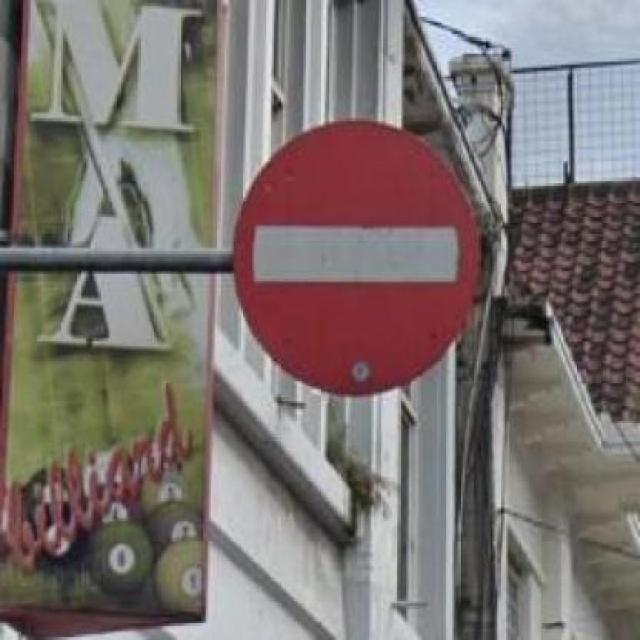no entry: (214, 108, 502, 406)
